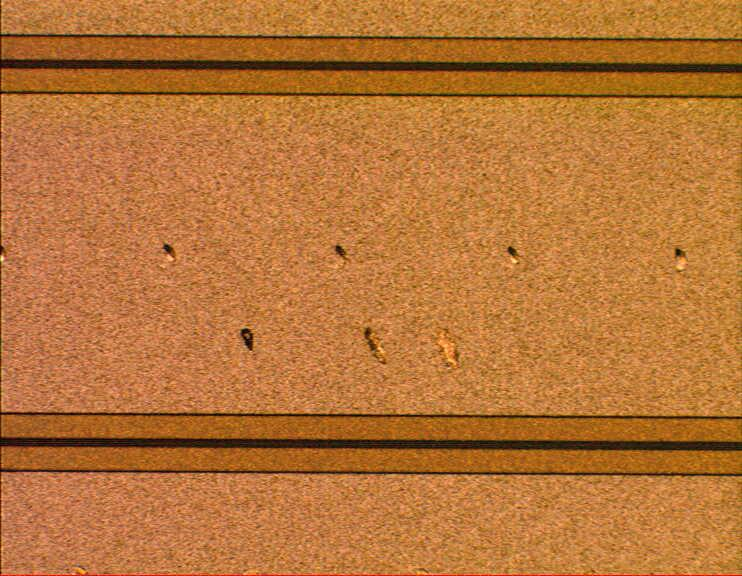SCRATCH: (223, 303, 475, 383)
